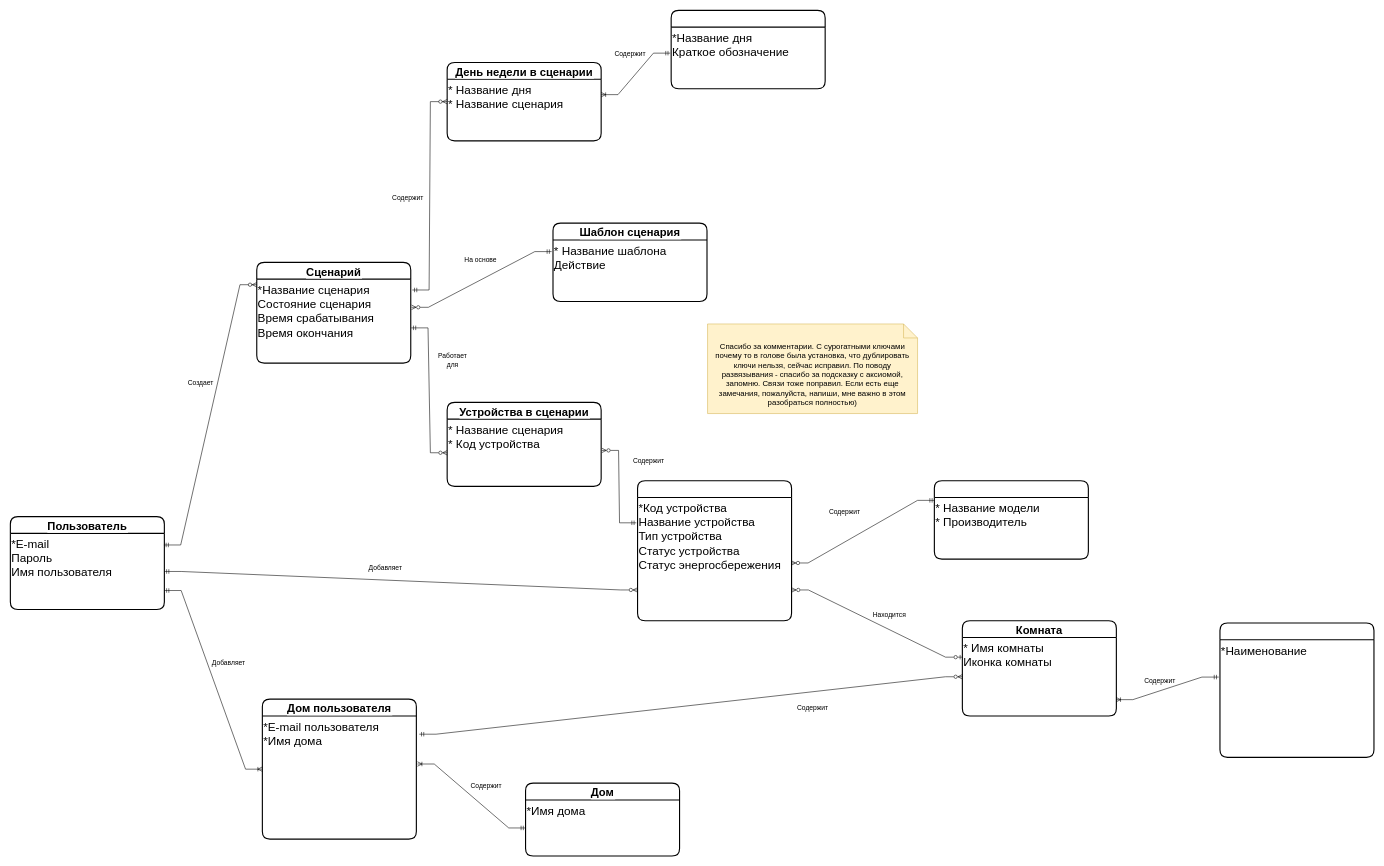
The diagram is 1384 pixels wide and 866 high, and some of its shapes have lost their labels. Here are the shapes that lost their labels. From the top down, the box of each, then its label:
(670, 10, 825, 89): День недели
(934, 480, 1089, 559): Модель устройства
(637, 480, 792, 621): Устройство
(1219, 622, 1374, 758): Тип комнаты
